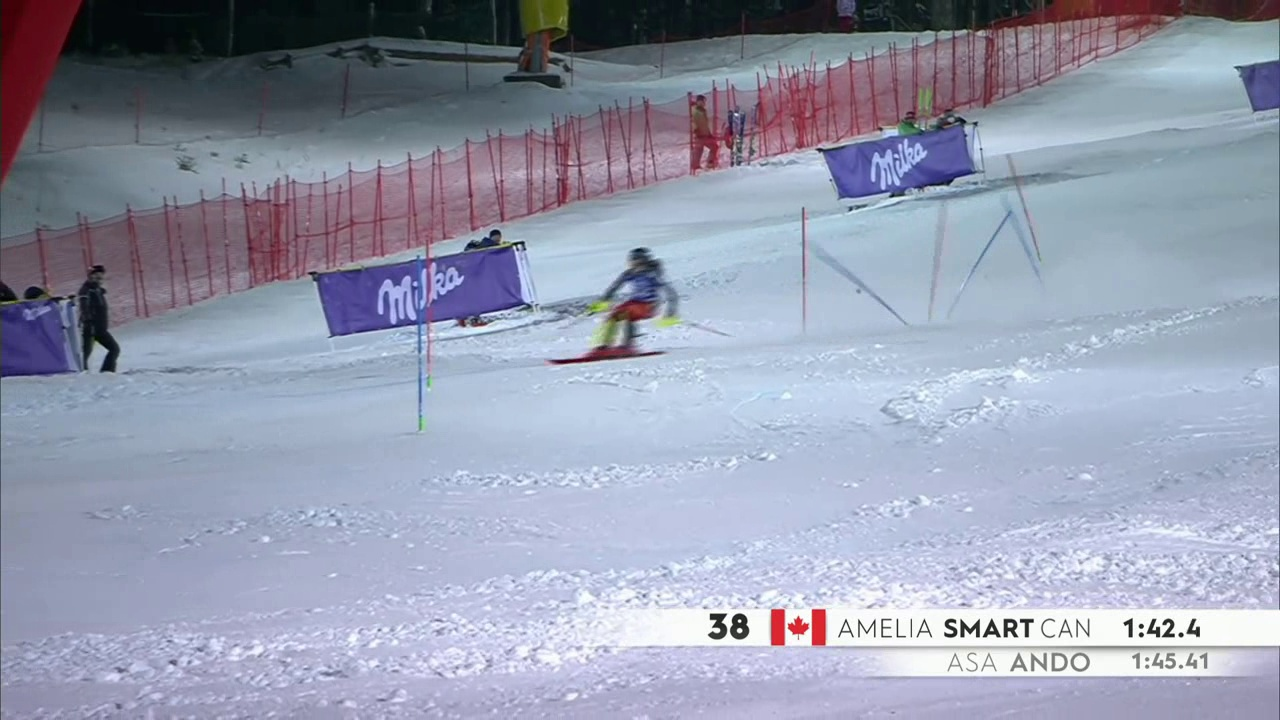milka: (315, 256, 521, 337), (818, 130, 977, 200)
